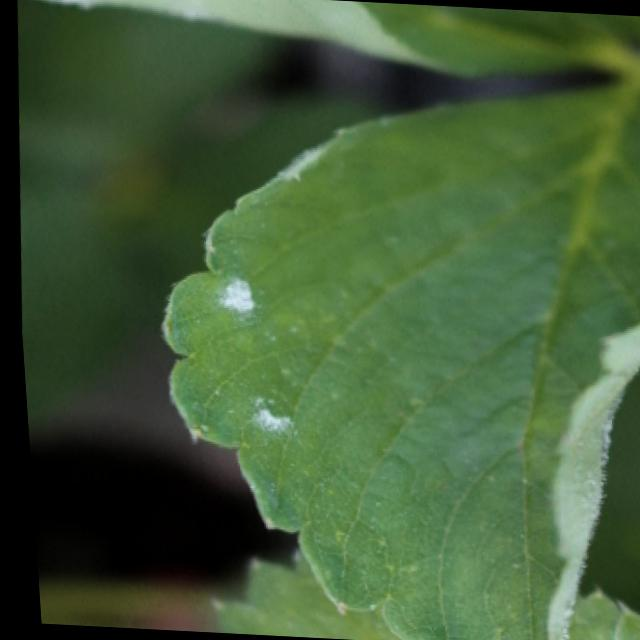Powdery Mildew Leaf: (155, 79, 640, 640), (43, 0, 619, 77)
